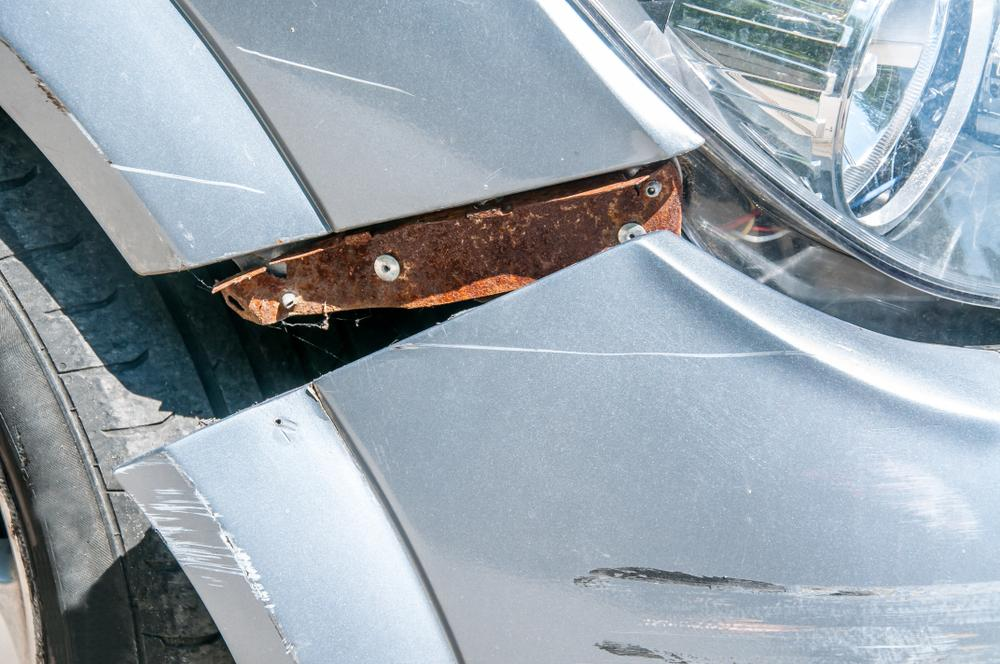scratch: (575, 559, 1000, 664), (112, 444, 309, 664), (225, 39, 432, 102), (389, 338, 820, 361), (99, 156, 277, 198)
